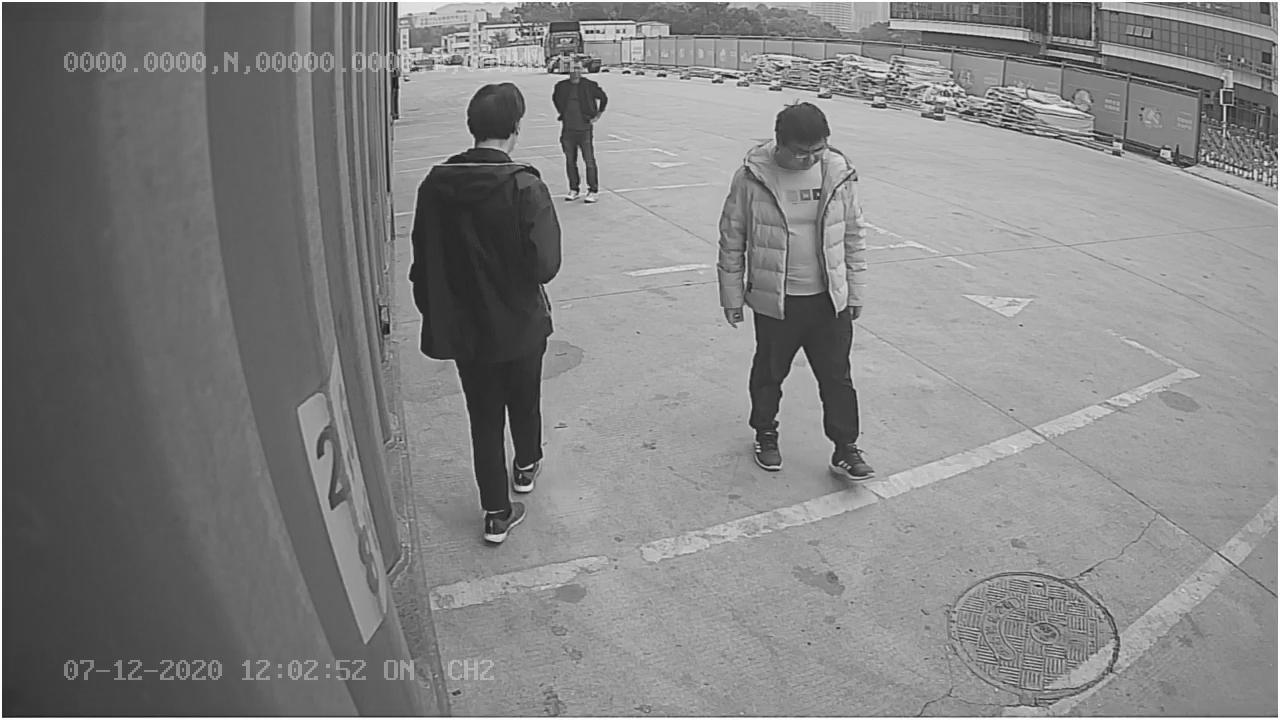person: (713, 101, 875, 481)
